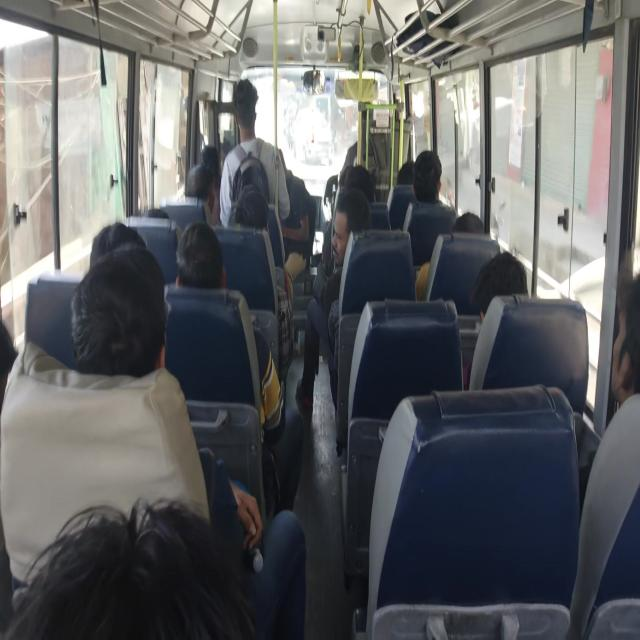person: (18, 500, 253, 640), (79, 269, 178, 396), (599, 292, 640, 436), (474, 252, 518, 340), (271, 137, 310, 236), (333, 209, 382, 271), (183, 228, 230, 286), (231, 77, 265, 154), (0, 300, 27, 393), (413, 151, 448, 220), (346, 169, 389, 208), (231, 203, 268, 236), (450, 215, 487, 247), (339, 158, 368, 198), (184, 160, 210, 201), (98, 235, 150, 253), (391, 165, 418, 196), (141, 200, 176, 222), (200, 147, 222, 177), (236, 185, 256, 202)
